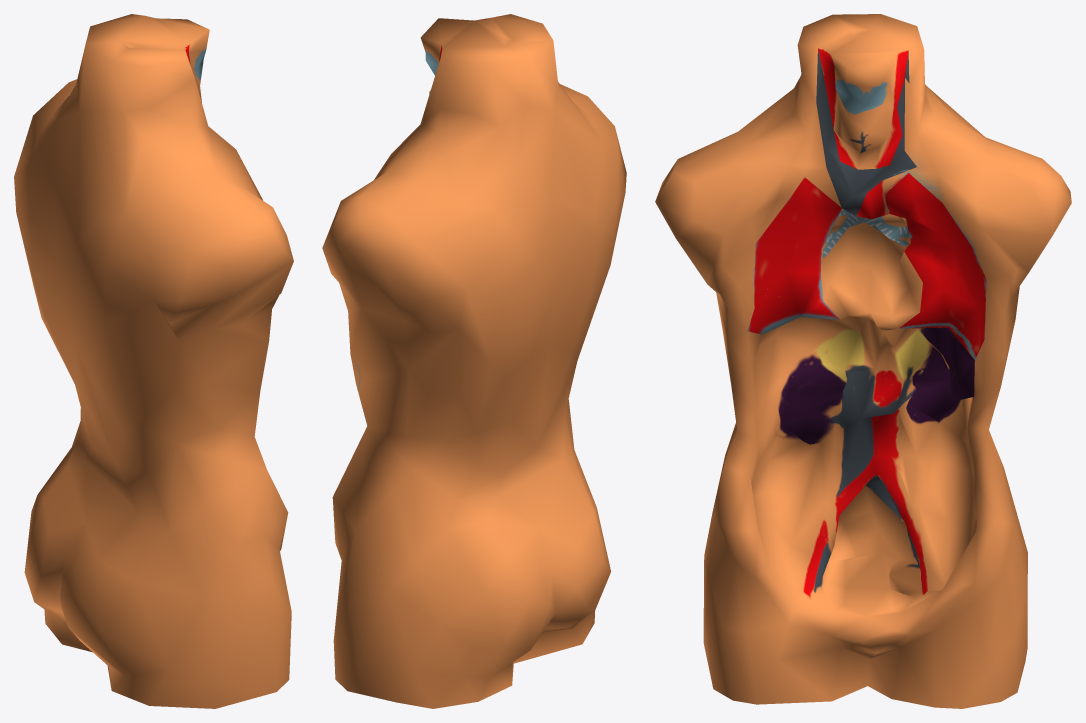
Rendered from jintaimokei0.5MB.glb.
3 renders of one model, left to right at view 1: azimuth 30°, elevation 25°; view 2: azimuth 150°, elevation 25°; view 3: azimuth 270°, elevation 25°, orthographic.
Visible parts, largest first — view 1: 人体模型; view 2: 人体模型; view 3: 人体模型.
Boxes of the visible parts, box(x1,y1,x2,y2) form: 人体模型: box(14, 14, 293, 708); 人体模型: box(322, 14, 626, 708); 人体模型: box(655, 14, 1071, 708).
Bounding box in the file's own units: 105 × 327 × 198.
Materials: 1 (1 with a texture image).
